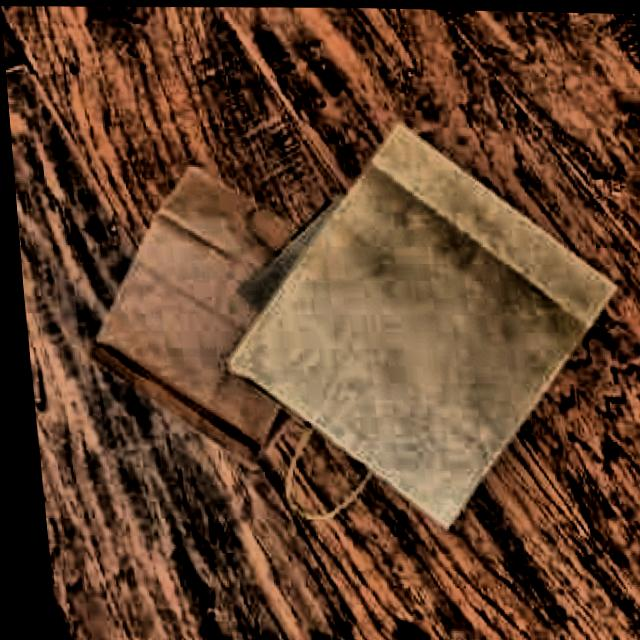Paper-bag: (191, 107, 630, 542), (52, 150, 328, 466)
